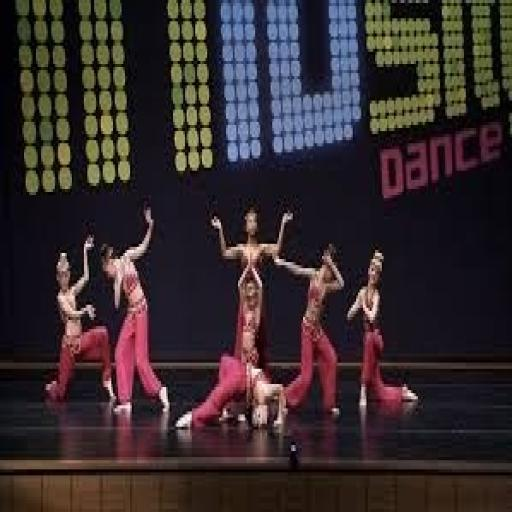dancing: (98, 198, 173, 421), (270, 238, 348, 426), (43, 232, 118, 412), (346, 244, 421, 414)
